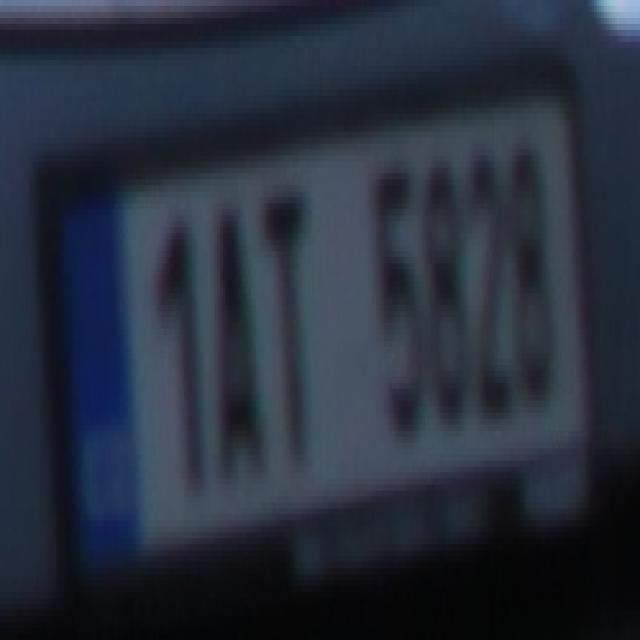1: (156, 215, 202, 502)
2: (474, 150, 512, 424)
5: (371, 156, 420, 442)
8: (425, 156, 474, 442), (507, 150, 561, 406)
A: (212, 210, 266, 484)
T: (261, 186, 320, 478)
